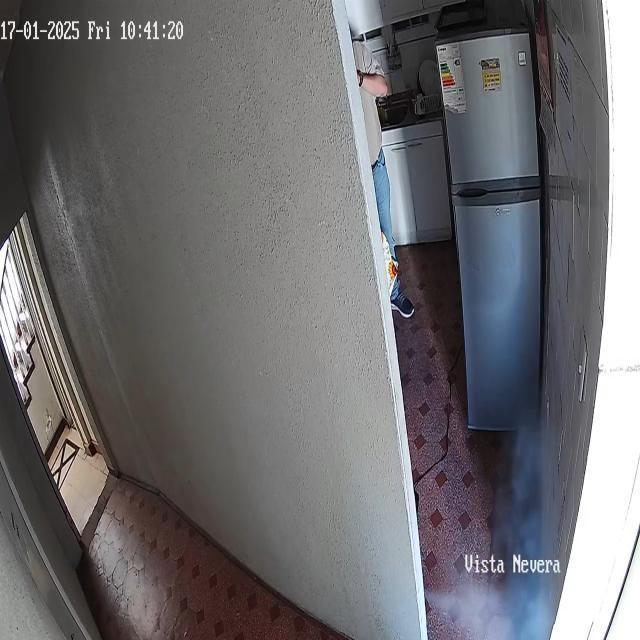fire: (423, 394, 560, 640)
